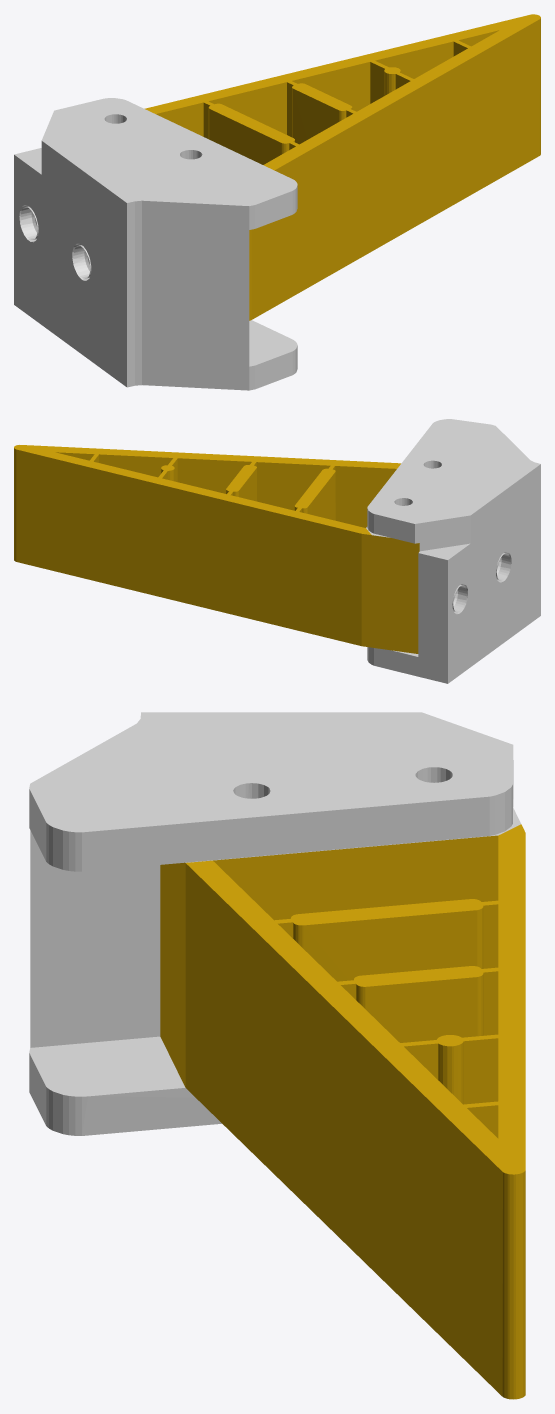
Rendered from finger.dae.
3 views of the same model, one above another, from view 1: azimuth 30°, elevation 25°; view 2: azimuth 150°, elevation 25°; view 3: azimuth 270°, elevation 25° (orthographic). The views are drawn at different scales.
Visible parts, largest first — view 1: gripper_finger_left_visual; view 2: gripper_finger_left_visual; view 3: gripper_finger_left_visual.
Boxes of the visible parts, x1,y1,x2,y2 form: gripper_finger_left_visual: [14, 14, 540, 390]; gripper_finger_left_visual: [14, 419, 540, 683]; gripper_finger_left_visual: [29, 712, 525, 1399].
Bounding box in the file's own units: 0.0806 × 0.04 × 0.027.
